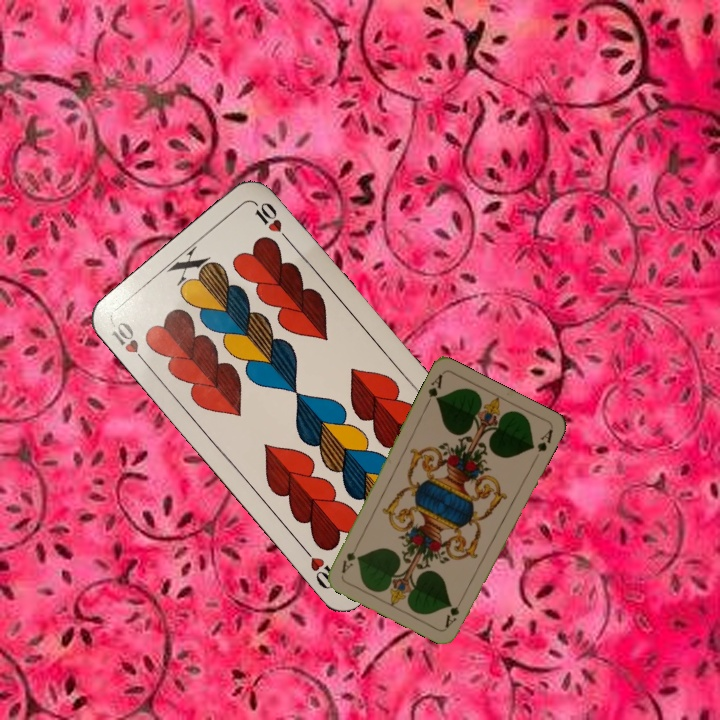GA: (441, 593, 466, 630), (422, 370, 445, 408)
H10: (107, 318, 152, 370)
